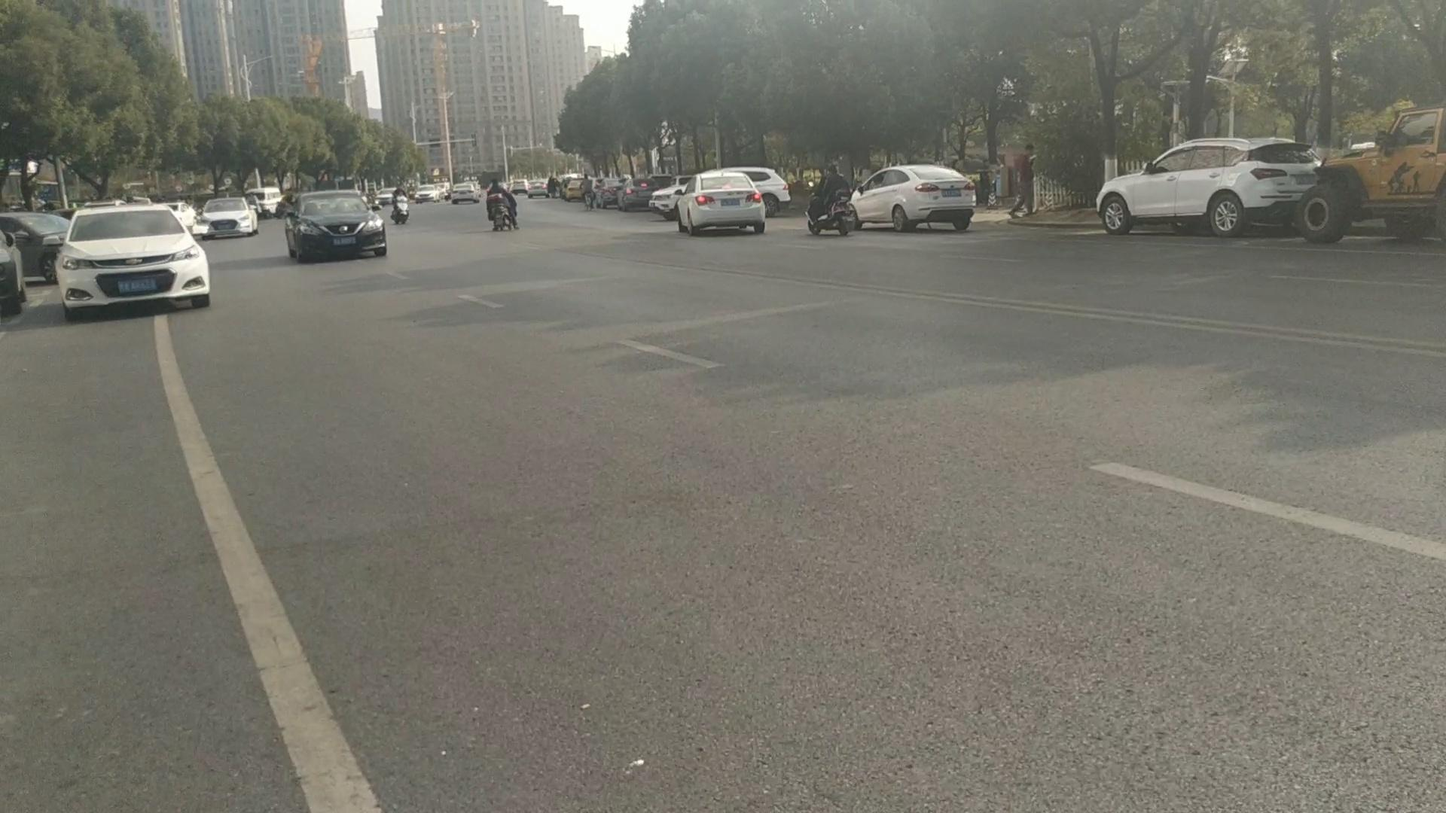car: (1095, 137, 1323, 237), (1295, 104, 1438, 242), (55, 202, 213, 318), (851, 163, 976, 233), (283, 190, 388, 262), (673, 171, 766, 235), (1, 210, 71, 279), (197, 196, 260, 239), (0, 220, 27, 319), (734, 167, 791, 213), (649, 181, 682, 217), (587, 178, 625, 209), (615, 181, 653, 212), (377, 188, 410, 222), (246, 187, 282, 217), (559, 172, 587, 199), (449, 183, 479, 205), (414, 185, 444, 202)
